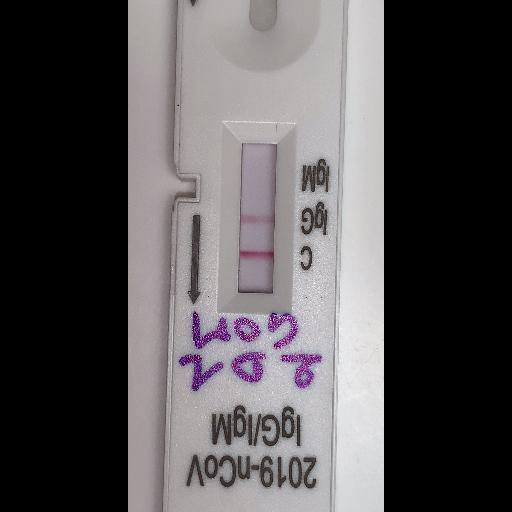Pos: (167, 1, 349, 512)
